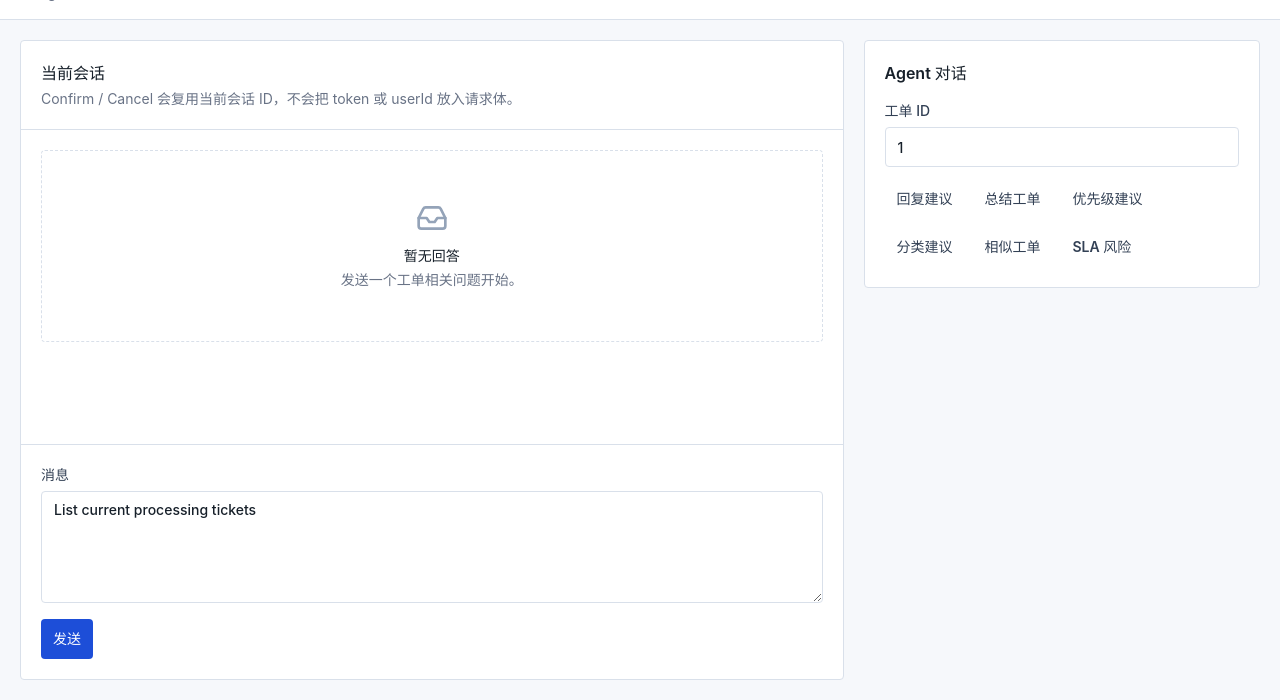
Test: AiPage › renders summary JSON card
(page scrolled)
Click the button "发送" at (67, 639), box [41,619,93,659]
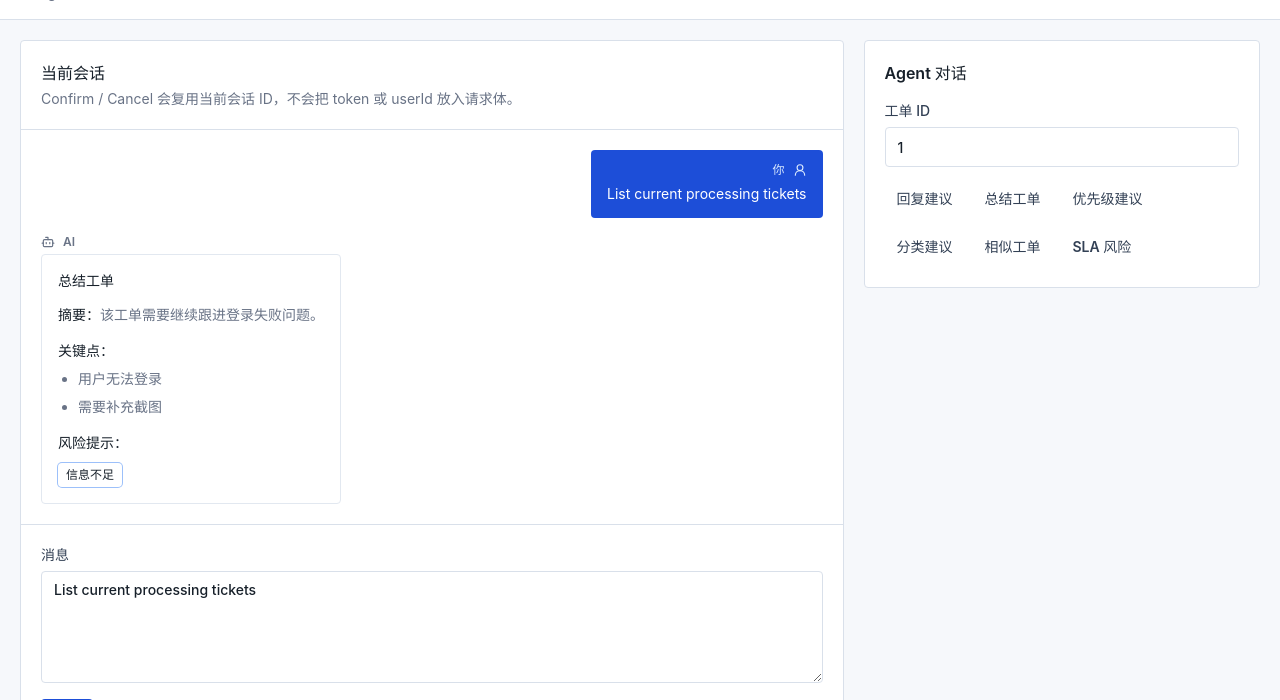
Check: the text "总结工单" is shown, box [58,272,114,289]
Check: the list item "用户无法登录" is shown, box [78,370,162,387]
